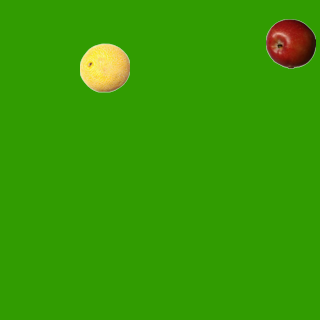Apple Braeburn: (265, 18, 315, 68)
Cantaloupe 1: (79, 42, 129, 92)
